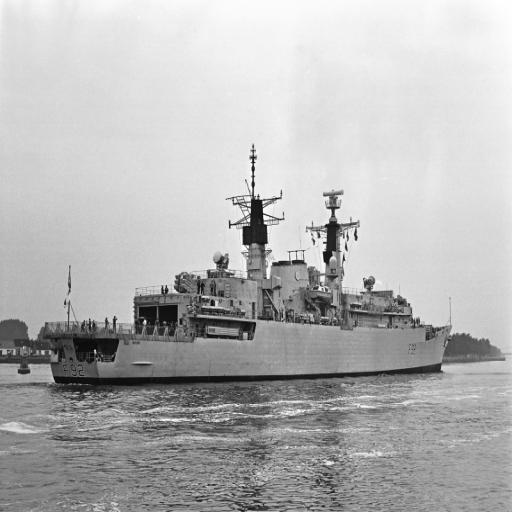Fragata: (44, 134, 456, 398)
